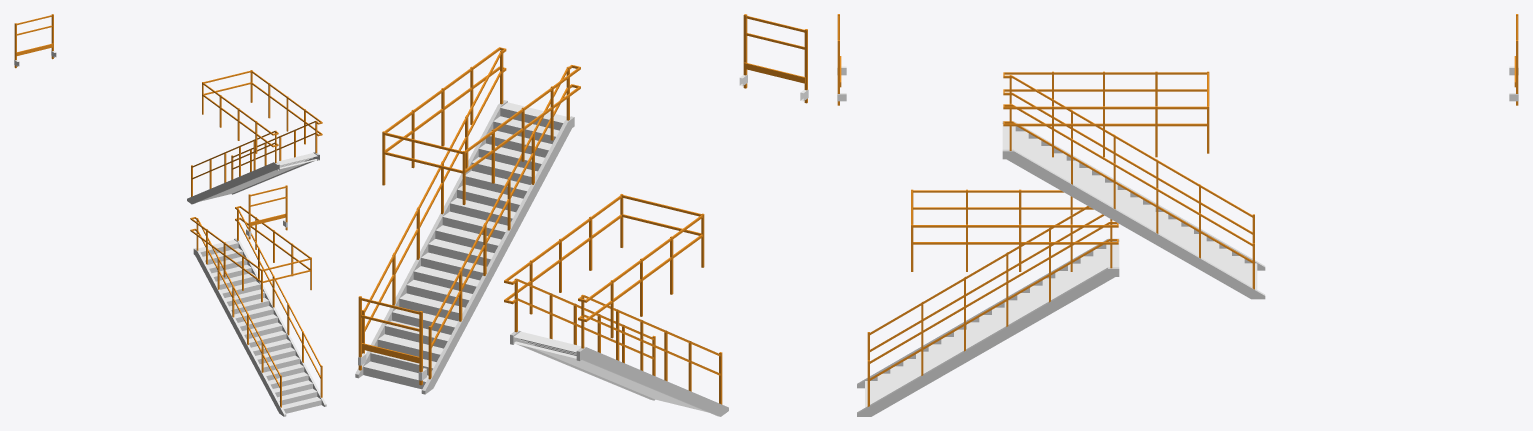
The model's file is SM_H_Building_Tide_DeepJail_04_Shelf_01d_ATLAS.fbx.
The picture shows the model from 3 angles, left to right: view 1: azimuth 30°, elevation 25°; view 2: azimuth 150°, elevation 25°; view 3: azimuth 270°, elevation 25°; orthographic projection. The views are drawn at different scales.
Parts seen in each view (by area): view 1: SM_H_Building_Tide_DeepJail_04_Shelf_01d_ATLAS; view 2: SM_H_Building_Tide_DeepJail_04_Shelf_01d_ATLAS; view 3: SM_H_Building_Tide_DeepJail_04_Shelf_01d_ATLAS.
Boxes of the visible parts, x1,y1,x2,y2 form: SM_H_Building_Tide_DeepJail_04_Shelf_01d_ATLAS: (14,14,326,416); SM_H_Building_Tide_DeepJail_04_Shelf_01d_ATLAS: (355,14,808,416); SM_H_Building_Tide_DeepJail_04_Shelf_01d_ATLAS: (837,14,1518,416).
Size of the model in its own units: 409 by 1273 by 708.
